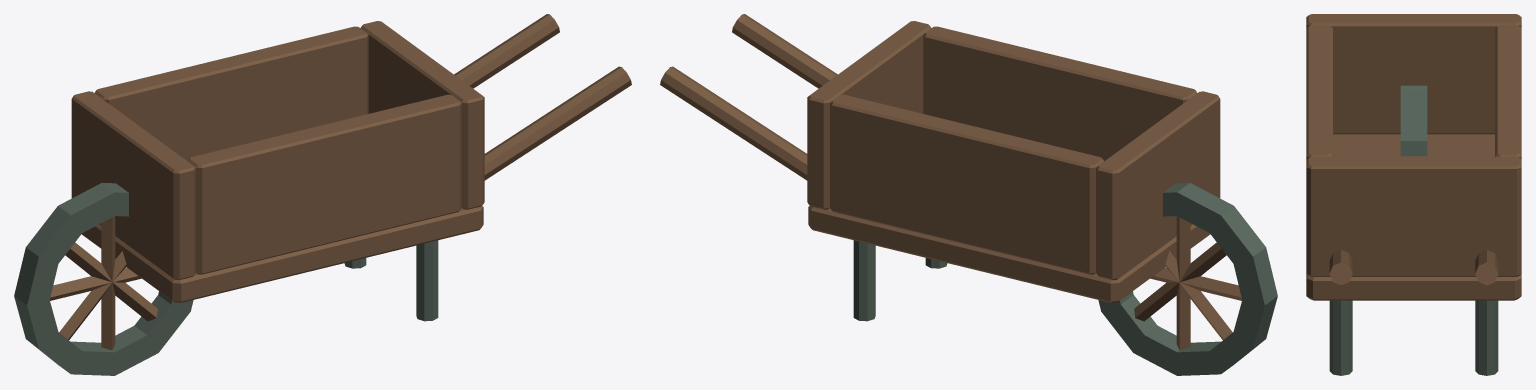
Rendered from wheelbarrow.glb.
The picture shows the model from 3 angles, left to right: view 1: azimuth 30°, elevation 25°; view 2: azimuth 150°, elevation 25°; view 3: azimuth 270°, elevation 25°; orthographic projection.
Parts seen in each view (by area): view 1: wheelbarrow__body; view 2: wheelbarrow__body; view 3: wheelbarrow__body.
Boxes of the visible parts, <box> form: wheelbarrow__body: <box>14,14,631,375</box>; wheelbarrow__body: <box>660,14,1277,375</box>; wheelbarrow__body: <box>1306,14,1521,375</box>.
Size of the model in its own units: 2.02 by 0.79 by 0.65.
